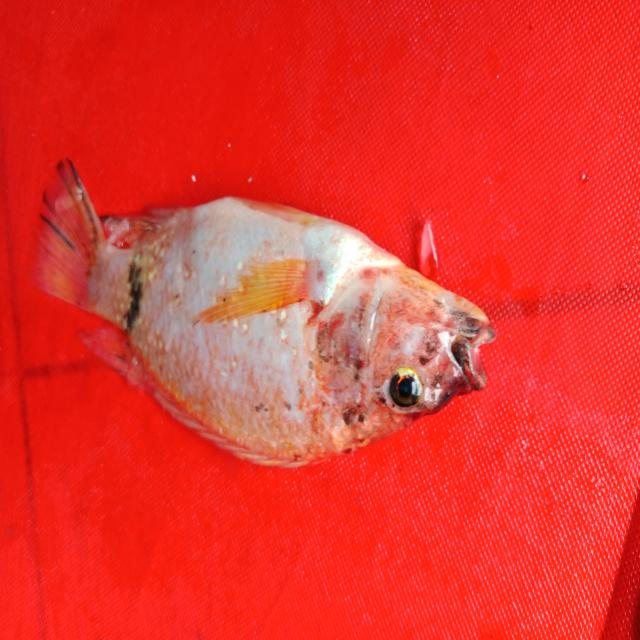ikan: (15, 142, 511, 482)
